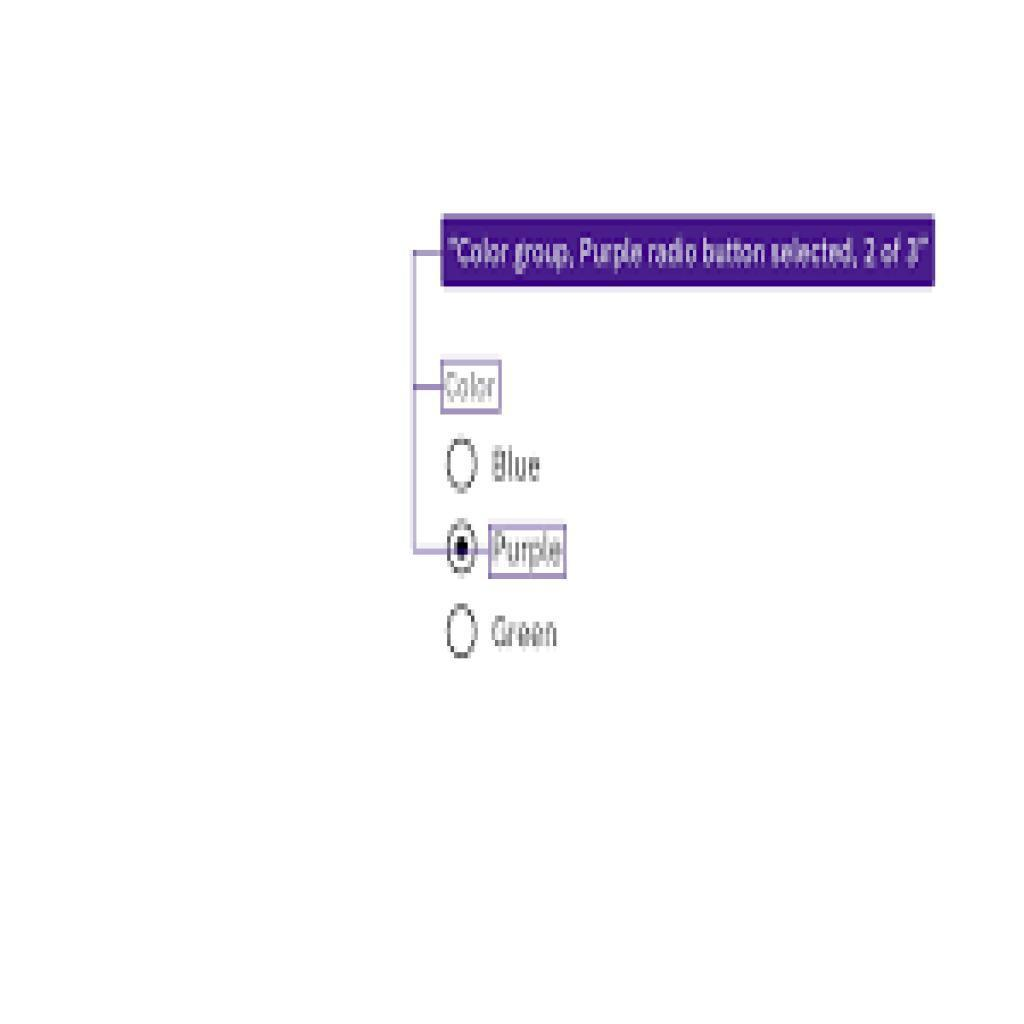label: (494, 529, 563, 576), (485, 440, 549, 488), (492, 614, 563, 651)
radio: (444, 601, 485, 672), (446, 509, 478, 580), (446, 436, 481, 493)
